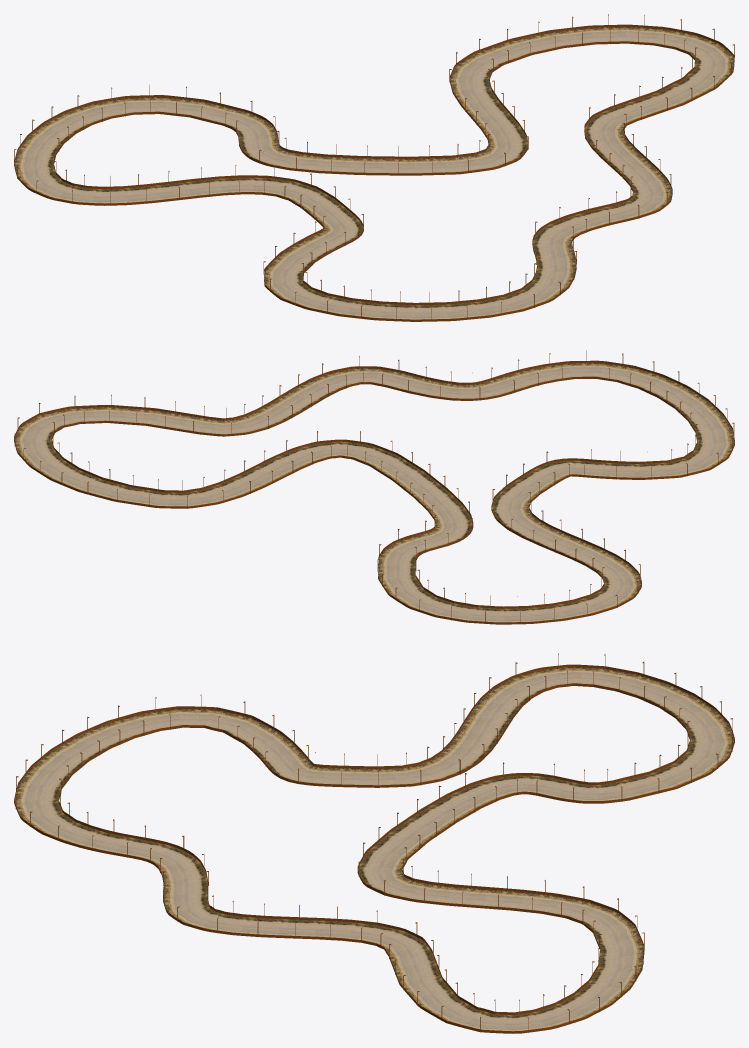
Rendered from track02.fbx.
3 renders of one model, top to bottom at view 1: azimuth 30°, elevation 25°; view 2: azimuth 150°, elevation 25°; view 3: azimuth 270°, elevation 25°, orthographic. The views are drawn at different scales.
Parts seen in each view (by area): view 1: road2, gravel1.002, gravel2.002, barrier1.002, barrier2.002; view 2: road2, gravel1.002, gravel2.002, barrier1.002, barrier2.002; view 3: road2, gravel1.002, gravel2.002, barrier1.002, barrier2.002.
Part boxes in pixels (bbox=[...]): road2: bbox=[21, 30, 727, 319]; gravel1.002: bbox=[14, 27, 734, 319]; gravel2.002: bbox=[46, 41, 702, 308]; barrier1.002: bbox=[14, 14, 734, 321]; barrier2.002: bbox=[52, 30, 697, 305]; road2: bbox=[21, 366, 727, 621]; gravel1.002: bbox=[14, 363, 734, 622]; gravel2.002: bbox=[44, 376, 704, 611]; barrier1.002: bbox=[14, 350, 734, 624]; barrier2.002: bbox=[51, 368, 697, 608]; road2: bbox=[22, 671, 726, 1030]; gravel1.002: bbox=[14, 667, 734, 1031]; gravel2.002: bbox=[50, 683, 698, 1018]; barrier1.002: bbox=[14, 653, 734, 1033]; barrier2.002: bbox=[58, 671, 690, 1014].
Size of the model in its own units: 18142 by 354 by 15075.
